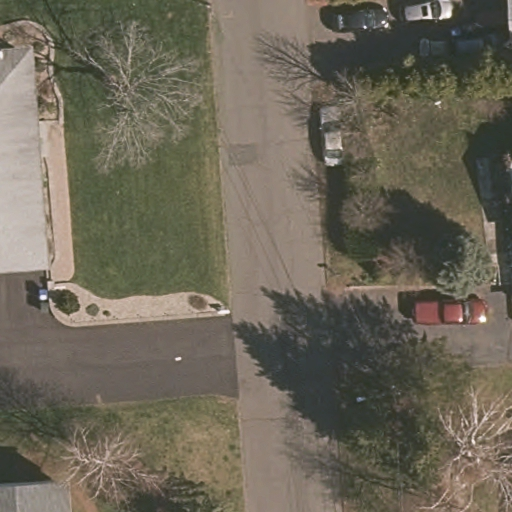DT: (346, 377, 420, 410)
